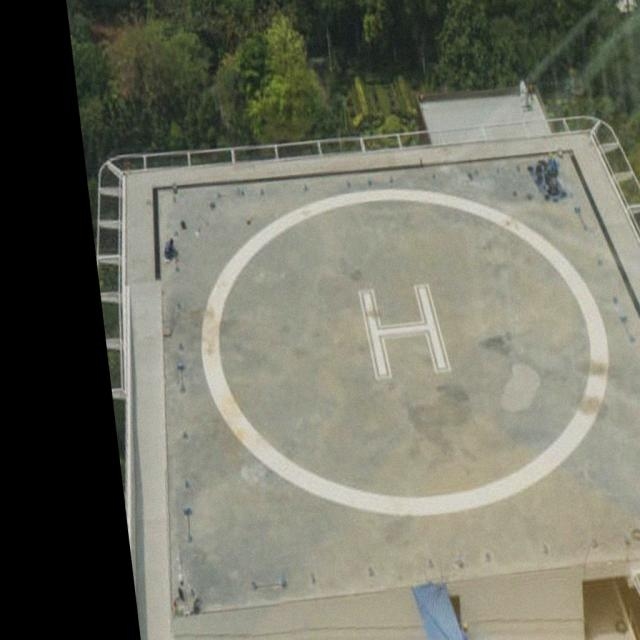helipad: (193, 182, 616, 520)
